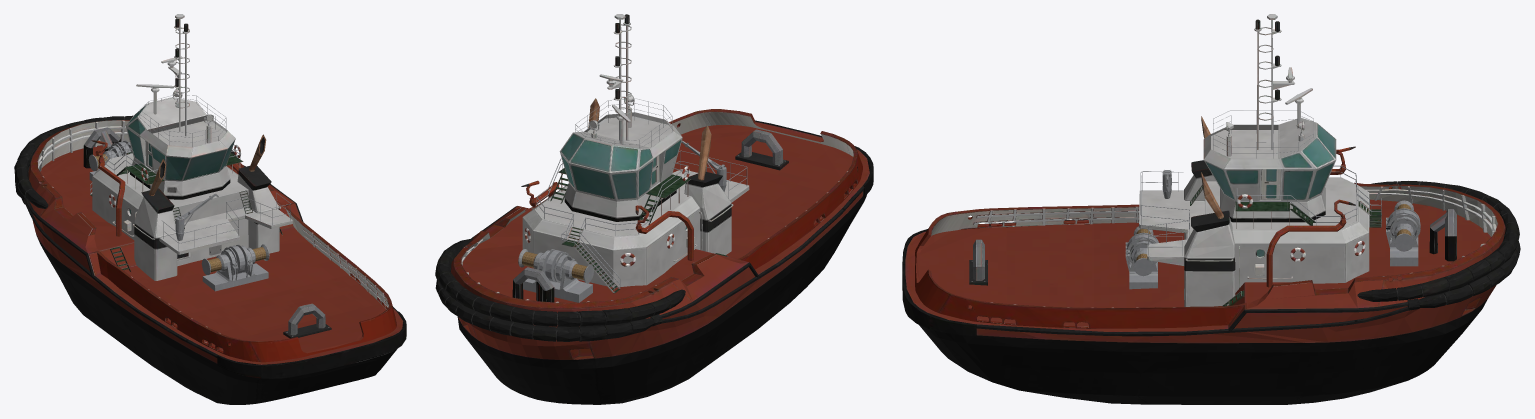
Rendered from rastar.glb.
The picture shows the model from 3 angles, left to right: view 1: azimuth 30°, elevation 25°; view 2: azimuth 150°, elevation 25°; view 3: azimuth 270°, elevation 25°; orthographic projection. The views are drawn at different scales.
Bounding box in the file's own units: 15.52 × 21.6 × 34.
2 materials, 2 textured.
